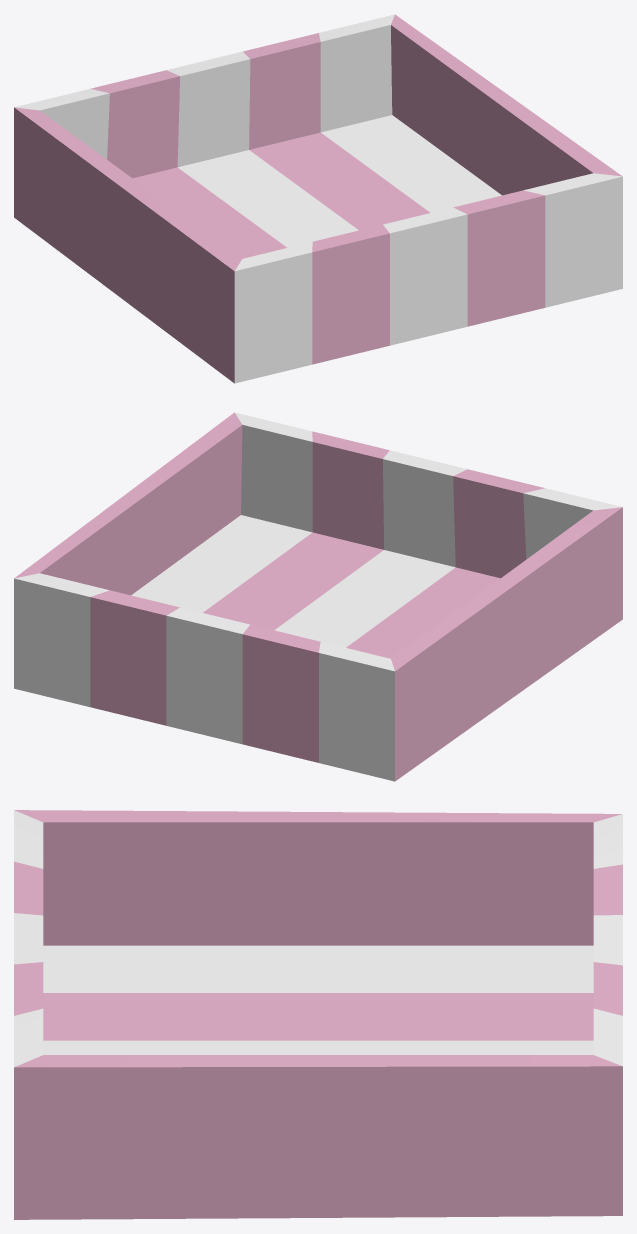
Rendered from Giftbox4-2.fbx.
The picture shows the model from 3 angles, top to bottom: view 1: azimuth 30°, elevation 25°; view 2: azimuth 150°, elevation 25°; view 3: azimuth 270°, elevation 25°; orthographic projection. The views are drawn at different scales.
Visible parts, largest first — view 1: Object001; view 2: Object001; view 3: Object001.
Boxes of the visible parts, x1,y1,x2,y2 form: Object001: (14,14,622,383); Object001: (14,412,622,781); Object001: (14,810,622,1219).
Size of the model in its own units: 22.45 by 6.2 by 22.45.
